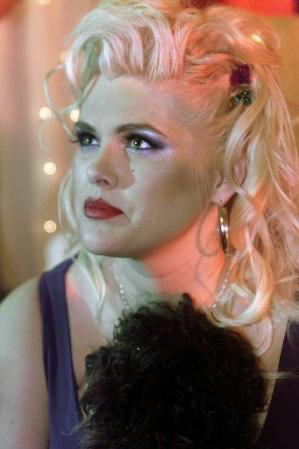Face: (53, 83, 200, 257)
